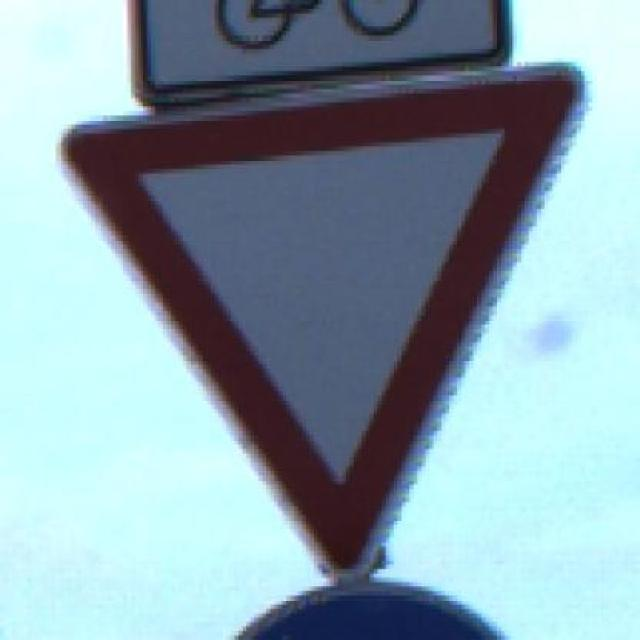Give Way: (58, 50, 614, 592)
